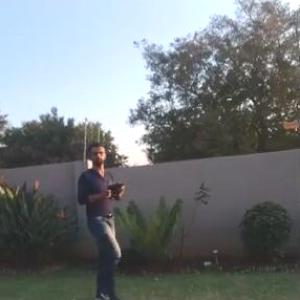follow: (74, 137, 131, 299)
